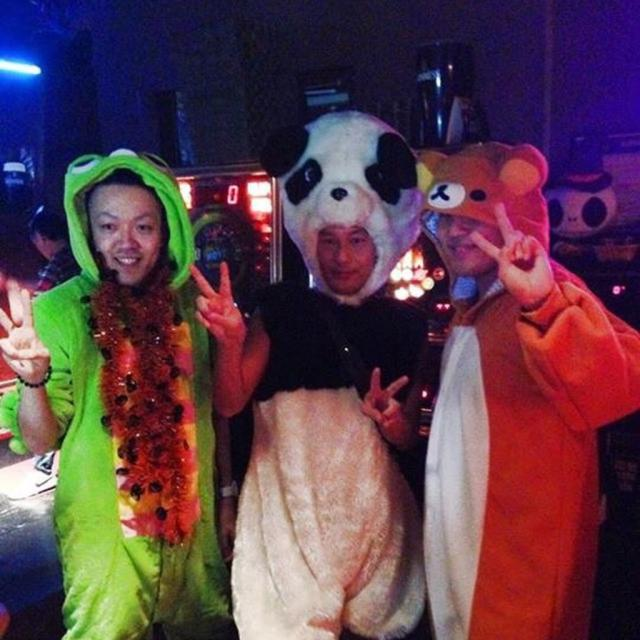panda: (254, 106, 429, 304)
